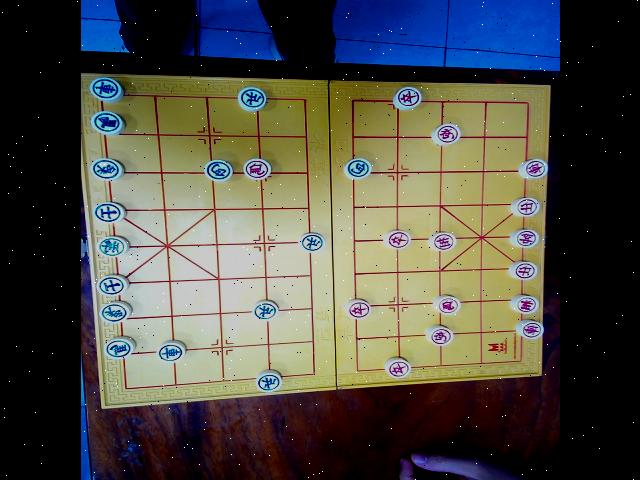piece: (89, 77, 122, 101), (90, 111, 124, 134), (95, 274, 128, 295), (90, 158, 123, 179), (103, 336, 134, 358), (99, 301, 131, 322), (237, 87, 266, 110), (393, 86, 421, 109), (96, 236, 128, 256), (93, 202, 125, 222), (203, 159, 232, 181), (431, 123, 460, 144), (157, 340, 185, 361), (518, 158, 547, 178), (255, 370, 281, 392), (507, 260, 537, 279), (243, 158, 270, 179), (343, 158, 371, 178), (427, 231, 456, 250), (509, 294, 538, 313), (510, 197, 539, 216), (384, 356, 410, 377), (515, 319, 543, 338), (432, 295, 460, 314), (509, 229, 538, 247), (252, 300, 278, 320), (425, 325, 452, 344), (343, 299, 370, 318), (382, 230, 410, 248), (298, 233, 324, 251)
